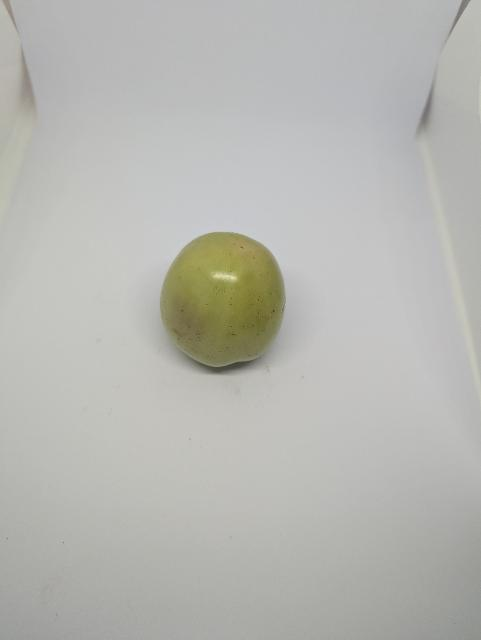green: (152, 218, 298, 379)
